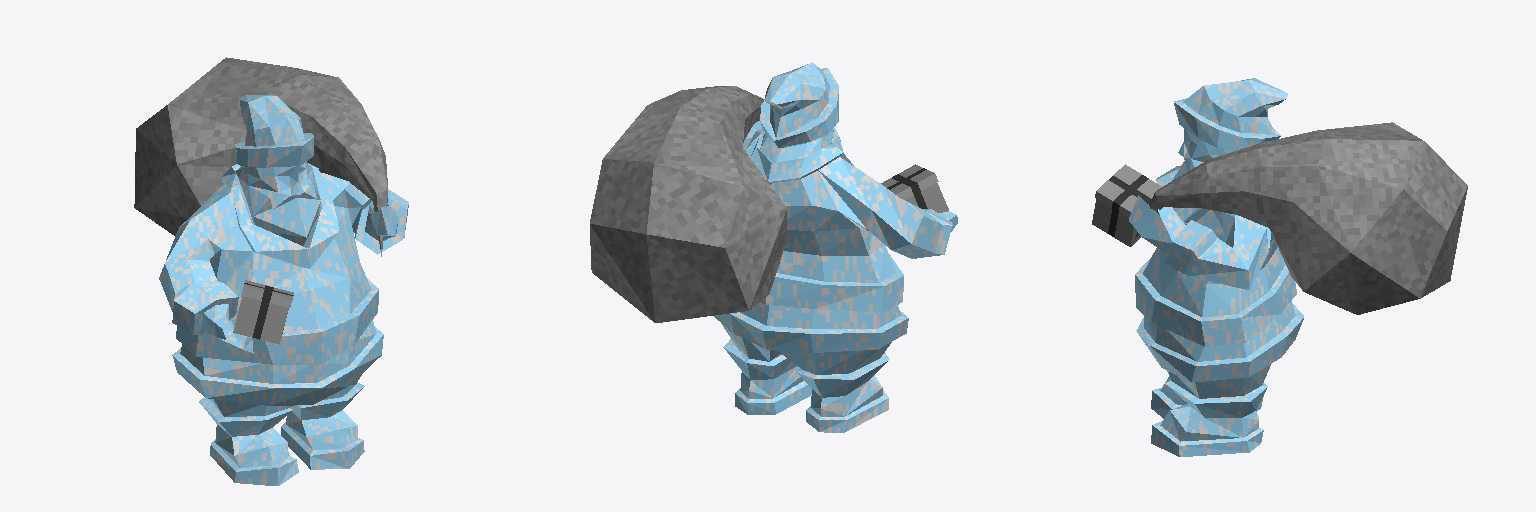
3 renders of one model, left to right at view 1: azimuth 30°, elevation 25°; view 2: azimuth 150°, elevation 25°; view 3: azimuth 270°, elevation 25°, orthographic.
Visible parts, largest first — view 1: santa_body_santa_body_mesh, santa_bag_santa_bag_mesh, santa_box_santa_box_mesh; view 2: santa_body_santa_body_mesh, santa_bag_santa_bag_mesh, santa_box_santa_box_mesh; view 3: santa_body_santa_body_mesh, santa_bag_santa_bag_mesh, santa_box_santa_box_mesh.
Boxes of the visible parts, x1=… form: santa_body_santa_body_mesh: x1=159, y1=95, x2=408, y2=485; santa_bag_santa_bag_mesh: x1=134, y1=57, x2=387, y2=256; santa_box_santa_box_mesh: x1=233, y1=280, x2=293, y2=344; santa_body_santa_body_mesh: x1=714, y1=62, x2=957, y2=432; santa_bag_santa_bag_mesh: x1=590, y1=86, x2=786, y2=322; santa_box_santa_box_mesh: x1=881, y1=164, x2=948, y2=212; santa_body_santa_body_mesh: x1=1129, y1=78, x2=1303, y2=456; santa_bag_santa_bag_mesh: x1=1133, y1=122, x2=1467, y2=314; santa_box_santa_box_mesh: x1=1092, y1=164, x2=1161, y2=246.
Size of the model in its own units: 4.81 by 5.96 by 5.88.
Materials: 3 (3 with a texture image).